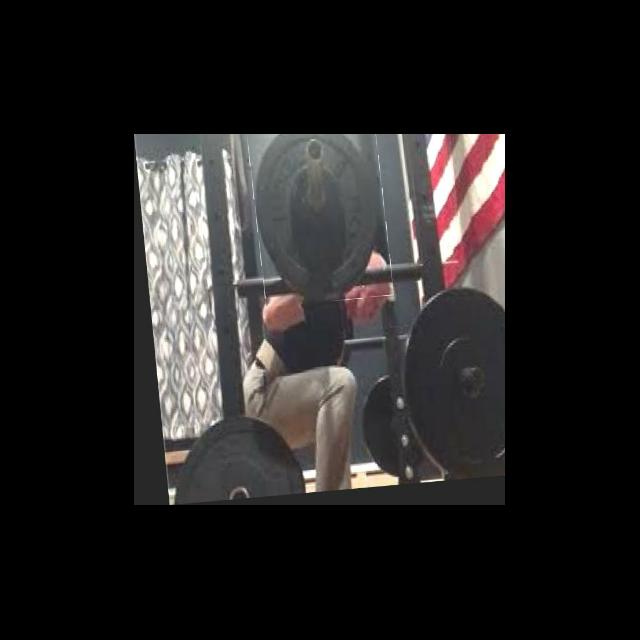barbell: (247, 134, 390, 309)
